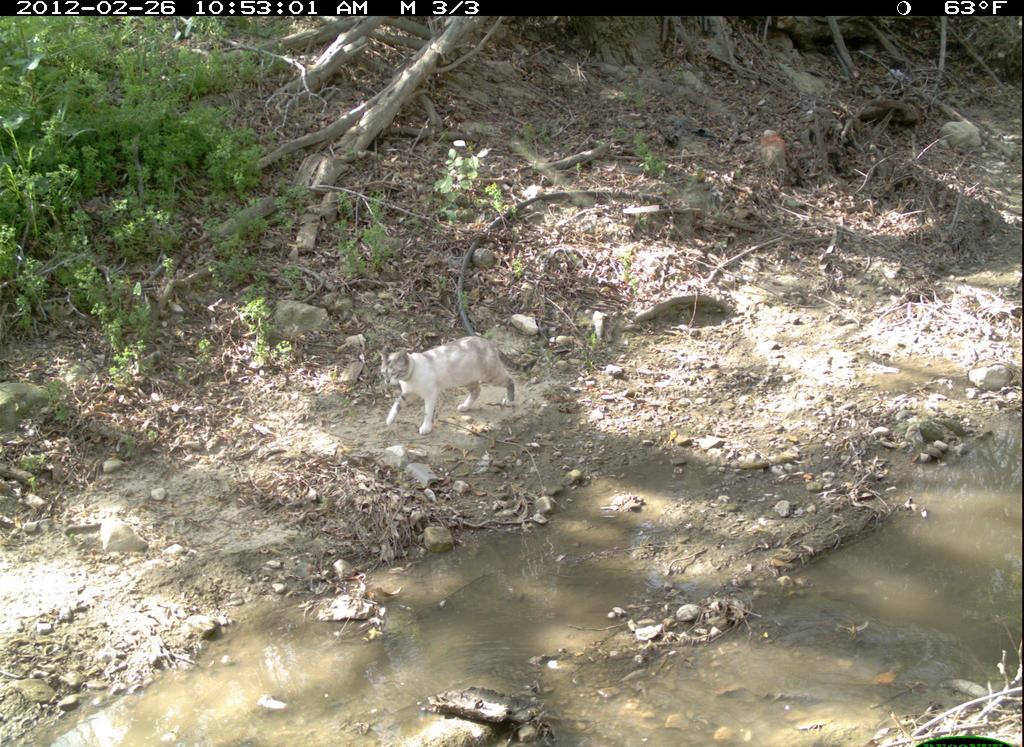cat: (376, 337, 539, 437)
